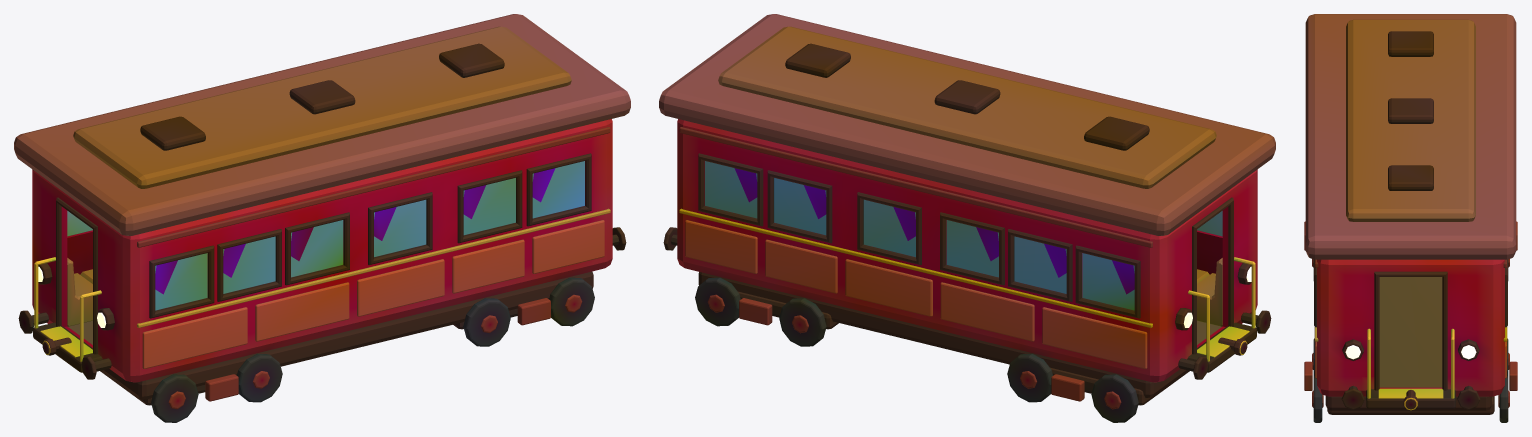
Rendered from RegionalWagon_Closed_Blockout.glb.
3 views of the same model, side by side, from view 1: azimuth 30°, elevation 25°; view 2: azimuth 150°, elevation 25°; view 3: azimuth 270°, elevation 25° (orthographic). The views are drawn at different scales.
Visible parts, largest first — view 1: Roof, Body, Windows, Livery, Underframe, Ends, Interior; view 2: Roof, Body, Windows, Livery, Underframe, Ends, Interior; view 3: Roof, Body, Interior, Ends, Underframe, Windows, Livery, Coupler_Front.
Boxes of the visible parts, box(x1,y1,x2,y2) form: Roof: box(14, 14, 630, 235); Body: box(32, 119, 612, 382); Windows: box(67, 153, 591, 318); Livery: box(137, 127, 610, 368); Underframe: box(100, 271, 594, 422); Ends: box(18, 197, 626, 379); Interior: box(67, 258, 92, 344); Roof: box(659, 14, 1275, 235); Body: box(677, 119, 1257, 382); Windows: box(698, 153, 1222, 318); Livery: box(679, 127, 1152, 368); Underframe: box(695, 272, 1189, 422); Ends: box(663, 197, 1271, 379); Interior: box(1197, 258, 1222, 344); Roof: box(1305, 14, 1516, 259); Body: box(1317, 259, 1504, 396); Interior: box(1379, 277, 1442, 387); Ends: box(1341, 271, 1480, 409); Underframe: box(1304, 221, 1517, 422); Windows: box(1314, 259, 1507, 327); Livery: box(1314, 259, 1507, 378); Coupler_Front: box(1403, 390, 1418, 410).
Bounding box in the file's own units: 8.16 × 3.44 × 2.96.
